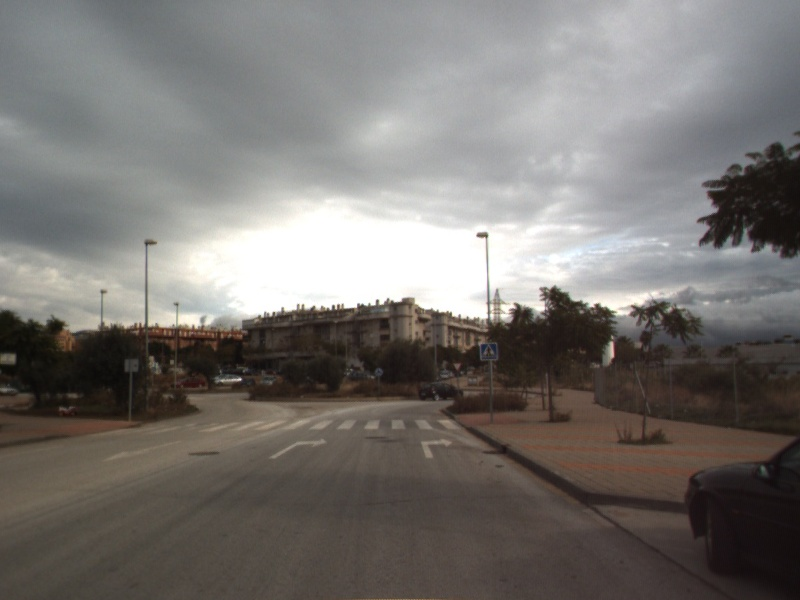RIGHT: (267, 436, 330, 461), (419, 436, 455, 460)
